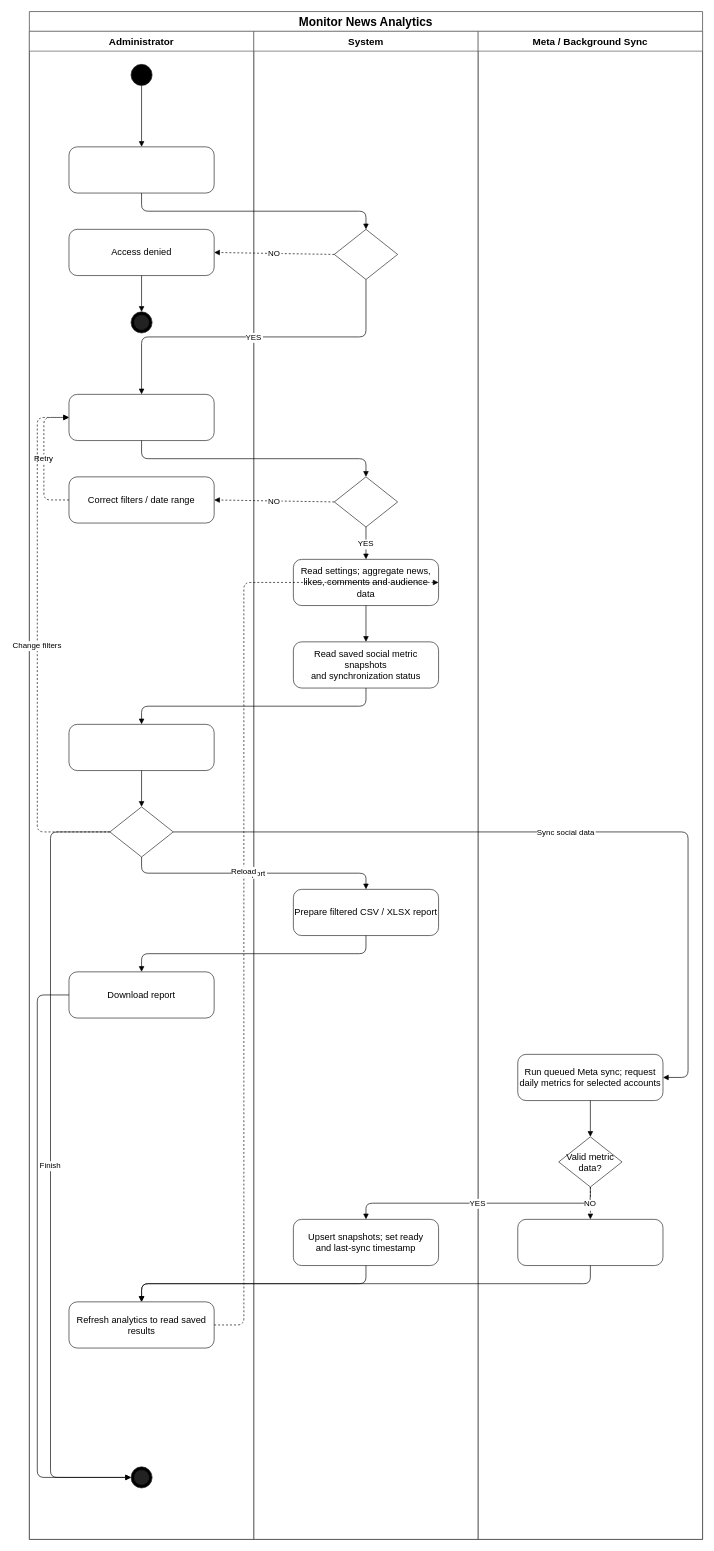
Image size: 714x1551. Some labels were removed from this diagram. The centre of each missing label's shape, as x and y in pixels:
Authorized administrator?: the point at 366,254
Choose date range, category, platform and sorting: the point at 141,417
Filters valid?: the point at 366,501
Inspect charts, trends and post details: the point at 141,747
Next action?: the point at 141,831
Open analytics dashboard: the point at 141,169
Record disconnected / no-data / unavailable status as applicable: the point at 590,1242
